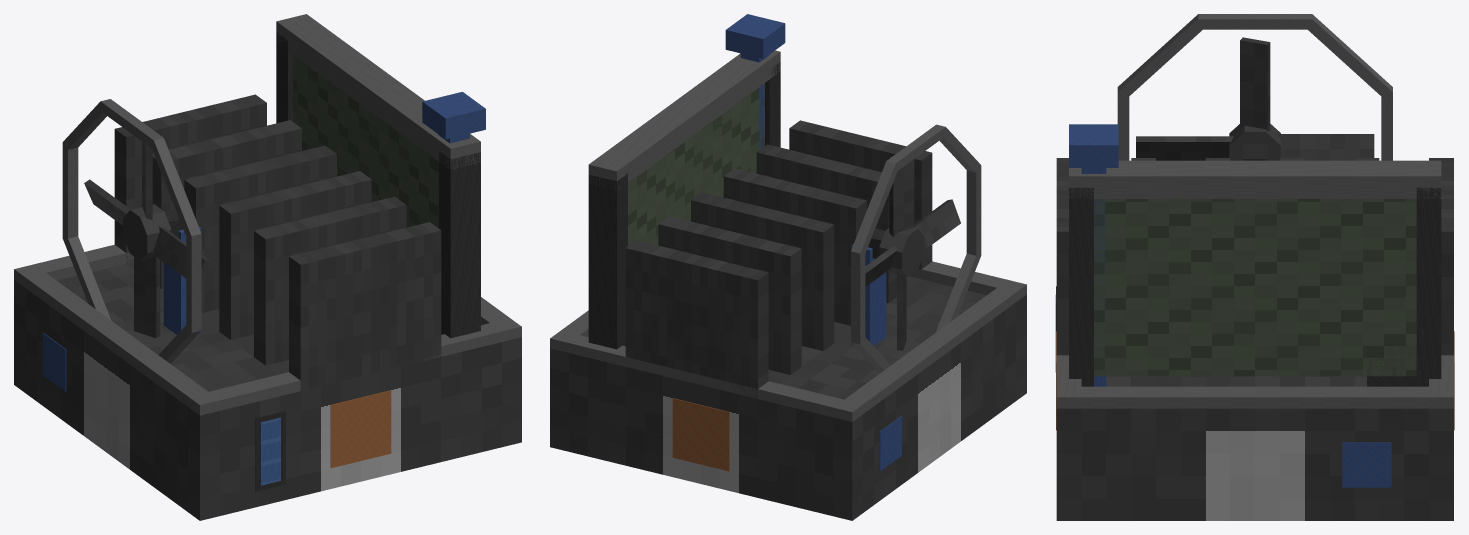
Rendered from evaporativecooler.glb.
3 renders of one model, left to right at view 1: azimuth 30°, elevation 25°; view 2: azimuth 150°, elevation 25°; view 3: azimuth 270°, elevation 25°, orthographic. The views are drawn at different scales.
Parts seen in each view (by area): view 1: Classic heatsink base and six fins, Evaporative media pad_wet, Water distributor, Eight-sided fan surround, Pad retaining edge.001, Classic four-bladed fan, Reservoir rim.002, Reservoir rim.001, Thermal connection.001, Top water port, Reservoir rim, Fan support (+4 smaller); view 2: Classic heatsink base and six fins, Evaporative media pad_wet, Water distributor, Eight-sided fan surround, Pad retaining edge, Classic four-bladed fan, Reservoir rim, Reservoir rim.002, Thermal connection, Top water port, Reservoir rim.001, Fan support (+2 smaller); view 3: Evaporative media pad_wet, Classic heatsink base and six fins, Water distributor, Classic four-bladed fan, Reservoir rim.003, Eight-sided fan surround, Pad retaining edge, Pad retaining edge.001, 240 V terminal.001, Top water port, Reservoir rim.001, Reservoir rim (+2 smaller).
Part boxes in pixels (<box>): Classic heatsink base and six fins: <box>14,94,521,520</box>; Evaporative media pad_wet: <box>293,55,438,227</box>; Water distributor: <box>276,14,480,169</box>; Eight-sided fan surround: <box>62,99,201,363</box>; Pad retaining edge.001: <box>439,151,480,338</box>; Classic four-bladed fan: <box>84,125,210,338</box>; Reservoir rim.002: <box>25,273,207,406</box>; Reservoir rim.001: <box>188,318,521,415</box>; Thermal connection.001: <box>330,390,391,468</box>; Top water port: <box>422,92,485,139</box>; Reservoir rim: <box>14,244,133,287</box>; Fan support: <box>163,226,201,334</box>; Classic heatsink base and six fins: <box>550,120,1026,520</box>; Evaporative media pad_wet: <box>628,83,764,245</box>; Water distributor: <box>588,50,780,190</box>; Eight-sided fan surround: <box>851,124,981,373</box>; Pad retaining edge: <box>588,173,627,349</box>; Classic four-bladed fan: <box>842,157,960,350</box>; Reservoir rim: <box>550,330,863,421</box>; Reservoir rim.002: <box>845,288,1015,413</box>; Thermal connection: <box>672,398,729,471</box>; Top water port: <box>725,14,785,58</box>; Reservoir rim.001: <box>910,261,1026,301</box>; Fan support: <box>851,244,886,345</box>; Evaporative media pad_wet: <box>1094,199,1416,376</box>; Classic heatsink base and six fins: <box>1056,158,1453,520</box>; Water distributor: <box>1069,160,1441,198</box>; Classic four-bladed fan: <box>1136,37,1374,160</box>; Reservoir rim.003: <box>1081,386,1428,408</box>; Eight-sided fan surround: <box>1117,14,1392,160</box>; Pad retaining edge: <box>1416,187,1441,386</box>; Pad retaining edge.001: <box>1069,187,1093,386</box>; 240 V terminal.001: <box>1342,442,1391,487</box>; Top water port: <box>1069,124,1118,167</box>; Reservoir rim.001: <box>1056,355,1081,408</box>; Reservoir rim: <box>1429,355,1453,408</box>.
Size of the model in its own units: 1 by 1 by 1.01.
1 material, 1 textured.
